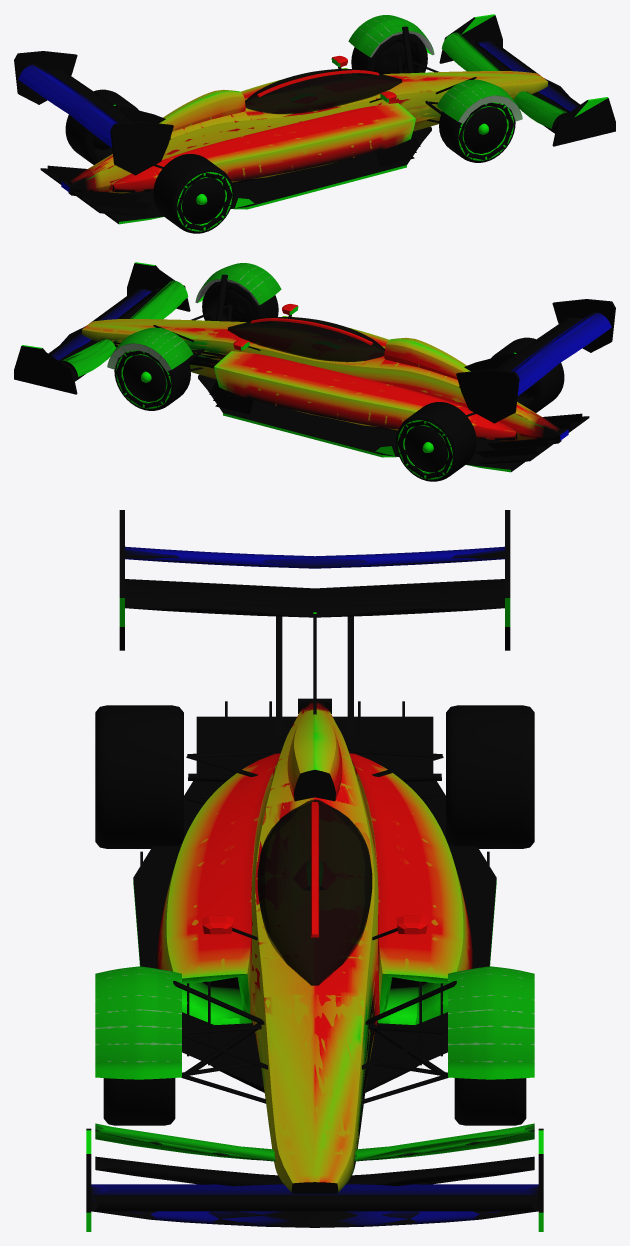
The model's file is raptor.glb.
The picture shows the model from 3 angles, top to bottom: view 1: azimuth 30°, elevation 25°; view 2: azimuth 150°, elevation 25°; view 3: azimuth 270°, elevation 25°; orthographic projection. The views are drawn at different scales.
Visible parts, largest first — view 1: body_L0, body_L2, glass_L0, glass_L1, body_L1, wheel_RR_L0, wheel_RR_L2, wheel_FR_L2, wheel_FL_L0, wheel_RL_L0, wheel_FR_L0, glass_L2 (+4 smaller); view 2: body_L0, body_L2, glass_L0, glass_L1, body_L1, wheel_RL_L0, wheel_RL_L2, wheel_FL_L2, wheel_FR_L0, wheel_RR_L0, wheel_FL_L0, glass_L2 (+5 smaller); view 3: body_L0, body_L2, body_L1, glass_L0, glass_L1, wheel_RL_L0, wheel_RR_L0, wheel_FR_L0, wheel_FL_L0, wheel_RL_L1, wheel_RR_L1, glass_L2.
Part boxes in pixels (box(x1,y1,x2,y2)): body_L0: box(14, 14, 615, 224); body_L2: box(20, 27, 580, 195); glass_L0: box(245, 69, 402, 114); glass_L1: box(245, 69, 401, 113); body_L1: box(68, 16, 569, 193); wheel_RR_L0: box(153, 154, 233, 233); wheel_RR_L2: box(176, 172, 232, 231); wheel_FR_L2: box(458, 102, 514, 160); wheel_FL_L0: box(351, 33, 427, 74); wheel_RL_L0: box(65, 89, 138, 164); wheel_FR_L0: box(439, 103, 515, 162); glass_L2: box(245, 70, 400, 108); body_L0: box(14, 262, 615, 472); body_L2: box(48, 275, 609, 443); glass_L0: box(228, 317, 384, 362); glass_L1: box(228, 317, 384, 361); body_L1: box(60, 264, 561, 441); wheel_RL_L0: box(396, 402, 476, 481); wheel_RL_L2: box(397, 420, 453, 479); wheel_FL_L2: box(115, 350, 171, 408); wheel_FR_L0: box(202, 281, 278, 322); wheel_RR_L0: box(491, 337, 564, 412); wheel_FL_L0: box(114, 351, 190, 410); glass_L2: box(228, 318, 384, 356); body_L0: box(86, 510, 543, 1231); body_L2: box(91, 549, 538, 1211); body_L1: box(95, 559, 534, 1227); glass_L0: box(257, 799, 372, 985); glass_L1: box(258, 800, 371, 985); wheel_RL_L0: box(446, 705, 534, 848); wheel_RR_L0: box(95, 705, 183, 848); wheel_FR_L0: box(103, 1078, 175, 1125); wheel_FL_L0: box(454, 1078, 526, 1125); wheel_RL_L1: box(446, 707, 534, 848); wheel_RR_L1: box(95, 707, 183, 848); glass_L2: box(258, 808, 371, 985).
Size of the model in its own units: 5.44 by 1.31 by 2.16.
